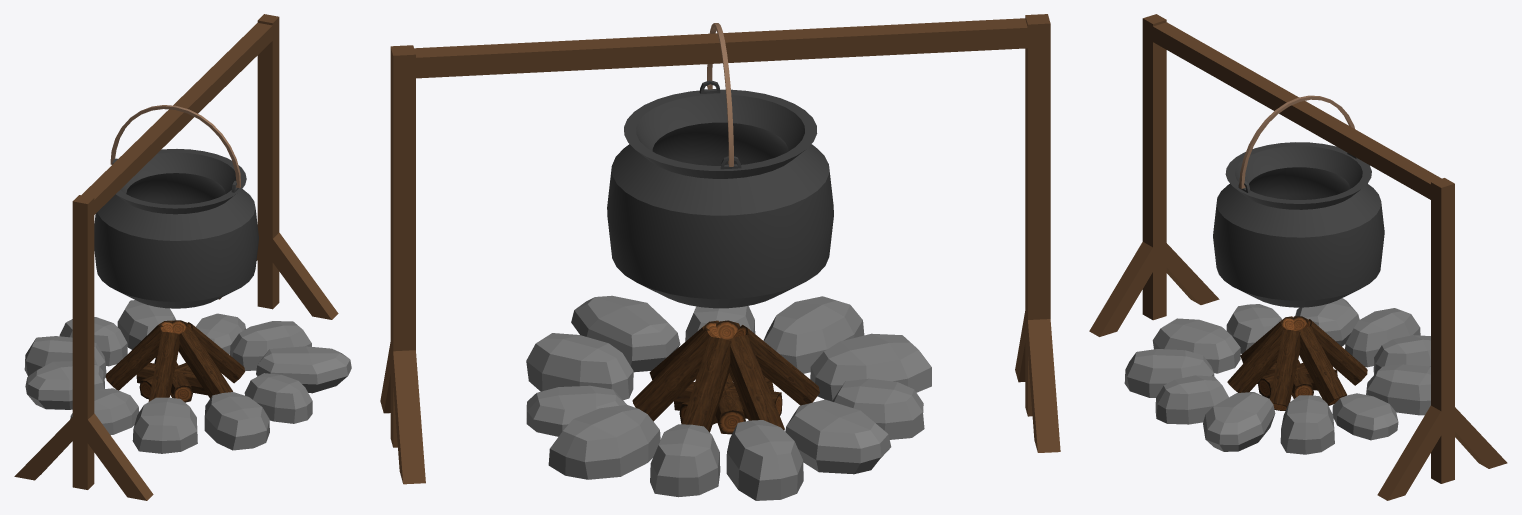
Rendered from Bonfire.fbx.
The picture shows the model from 3 angles, left to right: view 1: azimuth 30°, elevation 25°; view 2: azimuth 150°, elevation 25°; view 3: azimuth 270°, elevation 25°; orthographic projection. The views are drawn at different scales.
Parts seen in each view (by area): view 1: Cube, Cube.009, Circle, Cube.005, Circle.001; view 2: Cube.009, Cube, Circle, Cube.005, Circle.001; view 3: Cube, Cube.009, Circle, Cube.005, Circle.001.
Part boxes in pixels (x1=…): Cube: x1=14, y1=14, x2=338, y2=500; Cube.009: x1=24, y1=300, x2=351, y2=453; Circle: x1=94, y1=149, x2=258, y2=308; Cube.005: x1=105, y1=320, x2=245, y2=402; Circle.001: x1=110, y1=105, x2=240, y2=188; Cube.009: x1=526, y1=295, x2=931, y2=500; Cube: x1=380, y1=14, x2=1060, y2=484; Circle: x1=607, y1=80, x2=833, y2=308; Cube.005: x1=632, y1=320, x2=819, y2=434; Circle.001: x1=707, y1=23, x2=733, y2=166; Cube: x1=1089, y1=14, x2=1507, y2=500; Cube.009: x1=1124, y1=298, x2=1430, y2=454; Circle: x1=1213, y1=142, x2=1384, y2=307; Cube.005: x1=1227, y1=316, x2=1367, y2=410; Circle.001: x1=1239, y1=95, x2=1354, y2=188.
Bounding box in the file's own units: 233 × 156 × 199.
